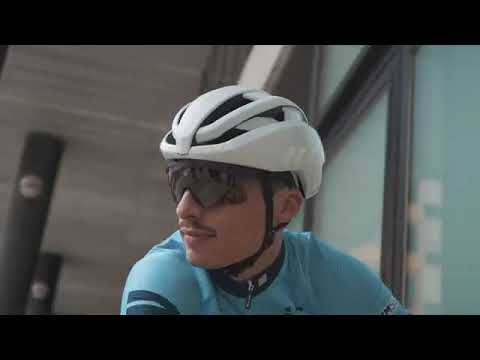helmet: (159, 86, 325, 269)
